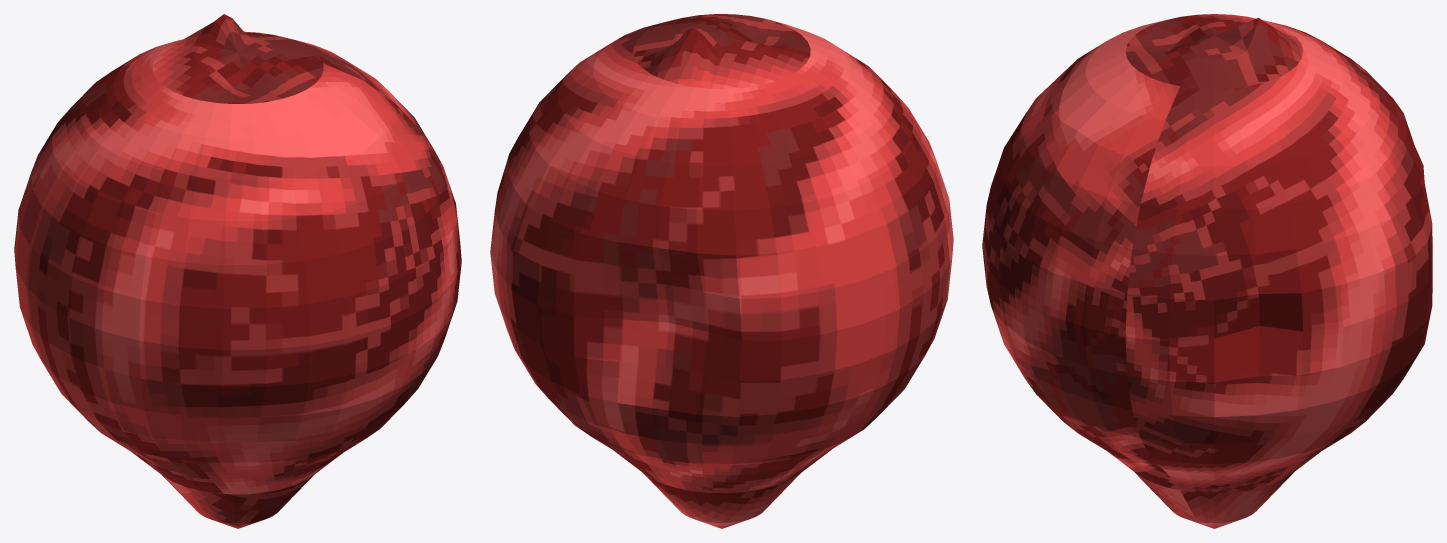
File: FixedMap.fbx
The picture shows the model from 3 angles, left to right: view 1: azimuth 30°, elevation 25°; view 2: azimuth 150°, elevation 25°; view 3: azimuth 270°, elevation 25°; orthographic projection. The views are drawn at different scales.
Visible parts, largest first — view 1: Sphere; view 2: Sphere; view 3: Sphere.
Part boxes in pixels (left/top/right/bottom): Sphere: left=14, top=14, right=461, bottom=528; Sphere: left=490, top=14, right=953, bottom=528; Sphere: left=982, top=14, right=1432, bottom=528.
Bounding box in the file's own units: 374 × 463 × 367.
